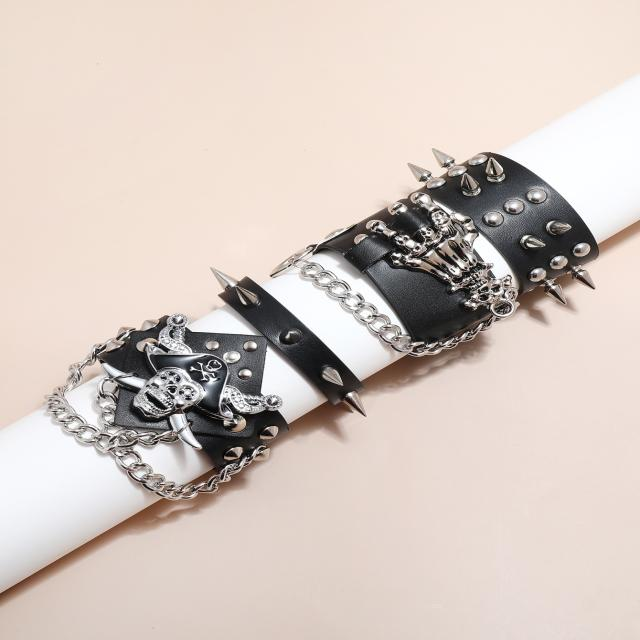bracelet: (45, 56, 640, 563)
